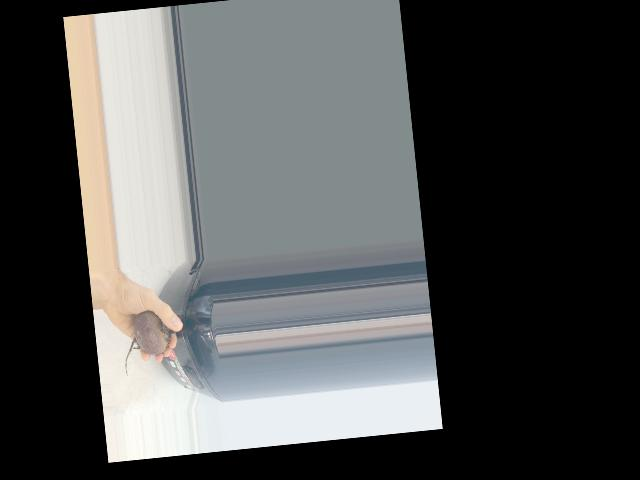beet: (119, 308, 179, 376)
